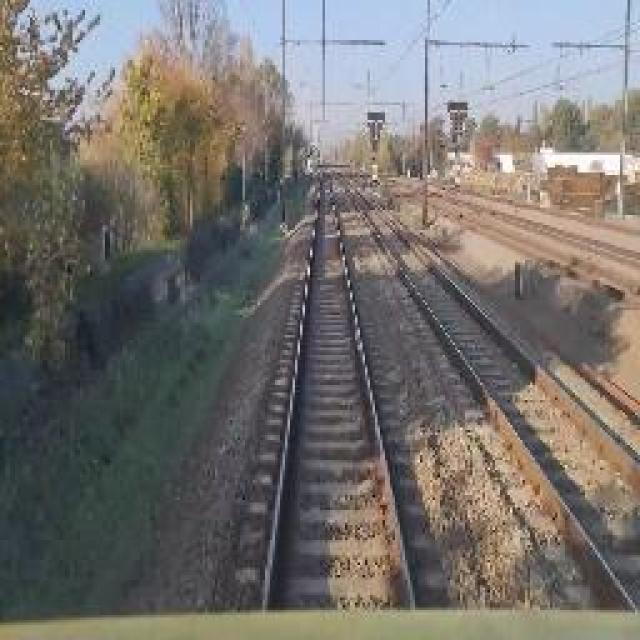rail: (325, 162, 640, 611), (217, 167, 448, 613)
